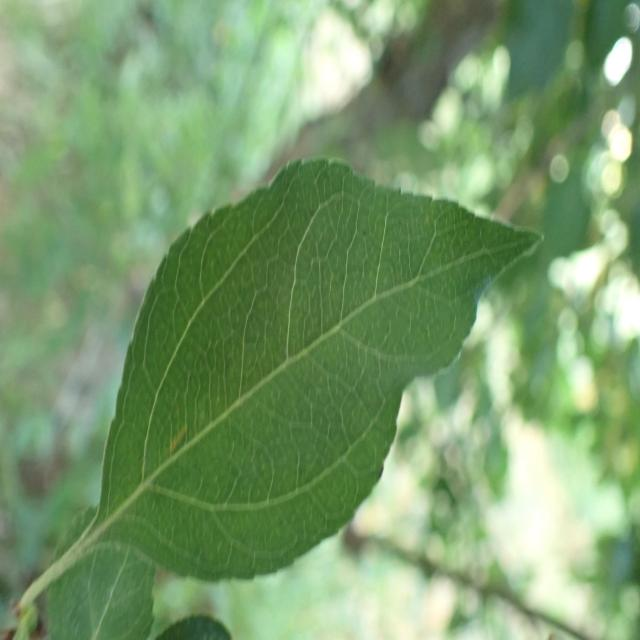healthy: (99, 156, 546, 581), (46, 505, 156, 639)
